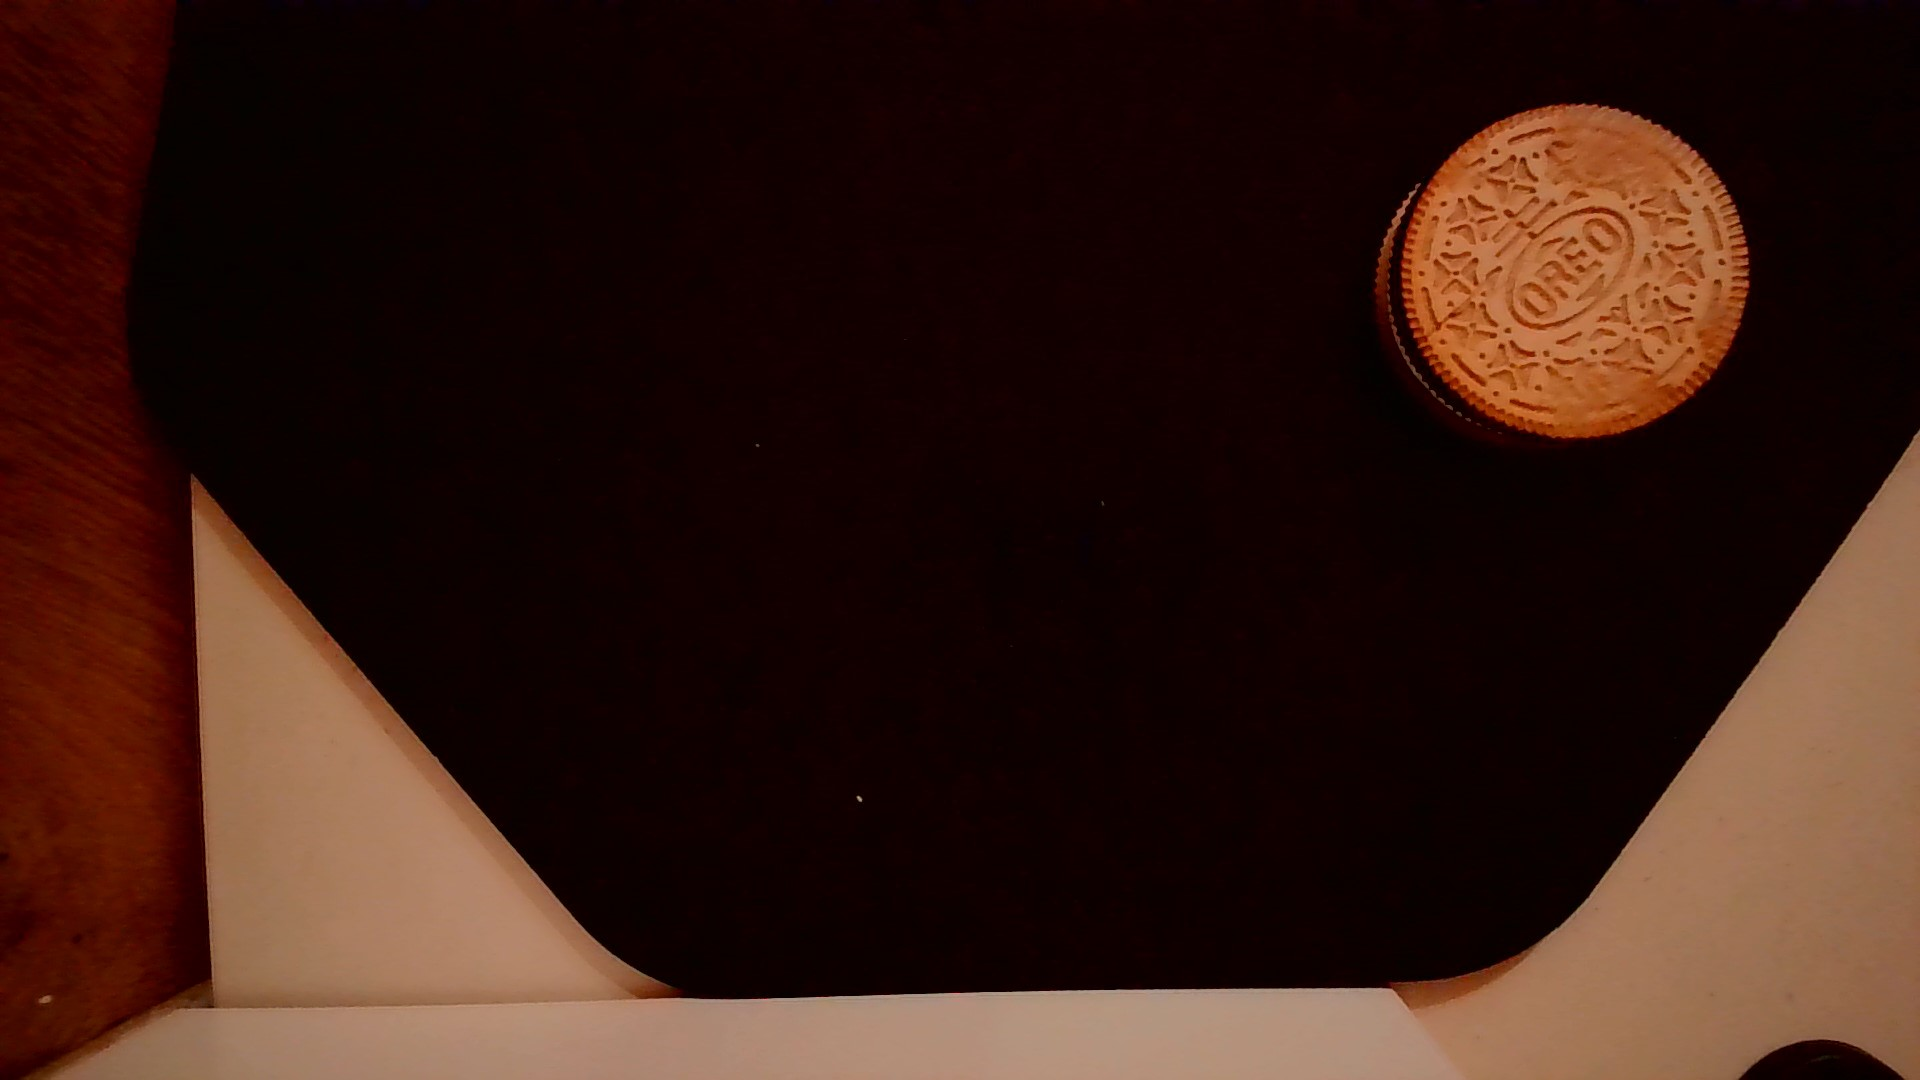Effacé: (1556, 104, 1683, 190), (1549, 372, 1683, 438)
Oréo: (1371, 100, 1756, 448)
